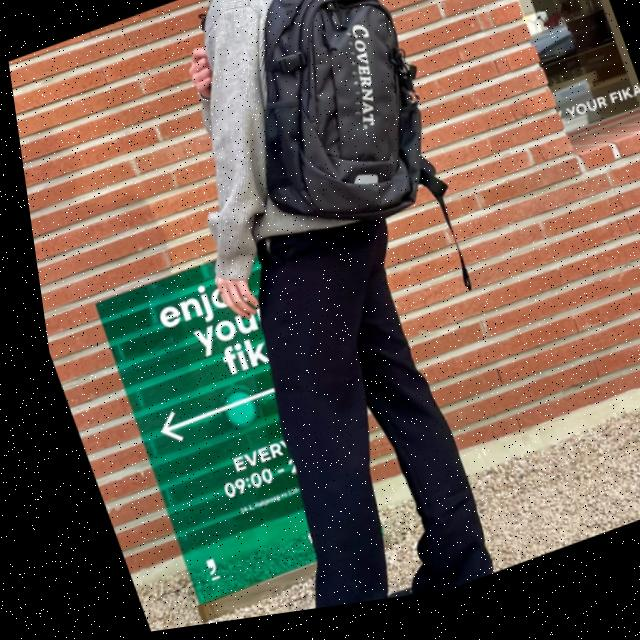backpack: (185, 0, 453, 266)
